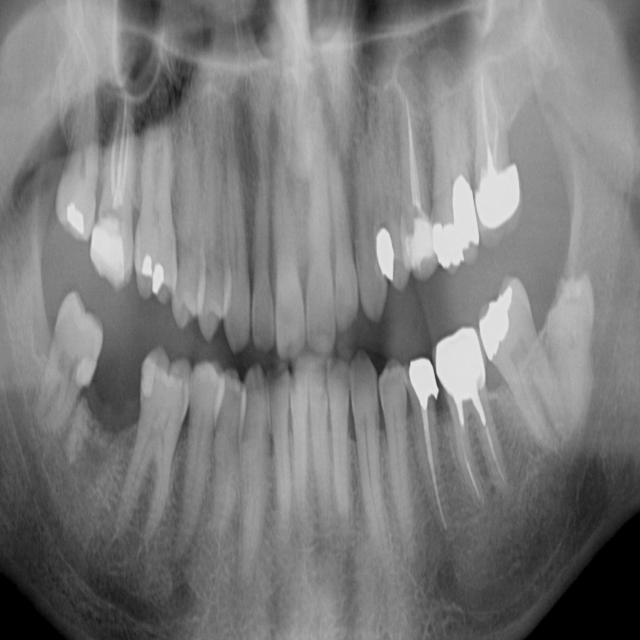infected-teeth: (437, 327, 512, 506), (90, 82, 136, 289), (405, 358, 454, 544), (474, 56, 522, 244), (400, 92, 439, 279)
